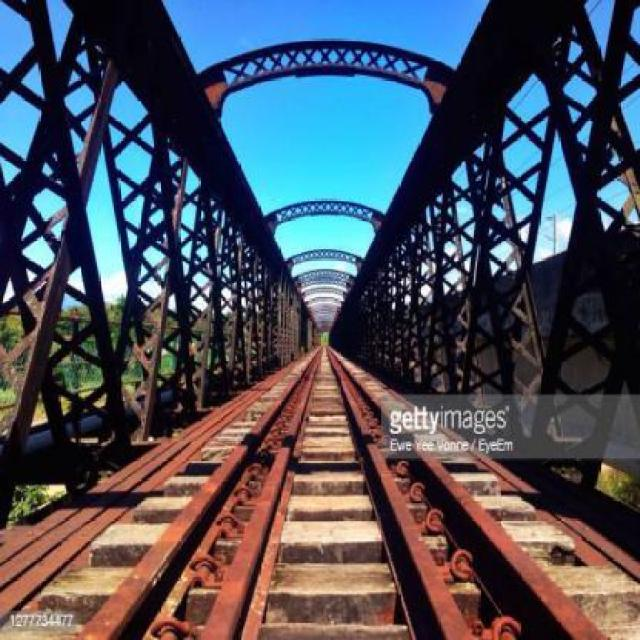defective: (0, 339, 638, 638)
